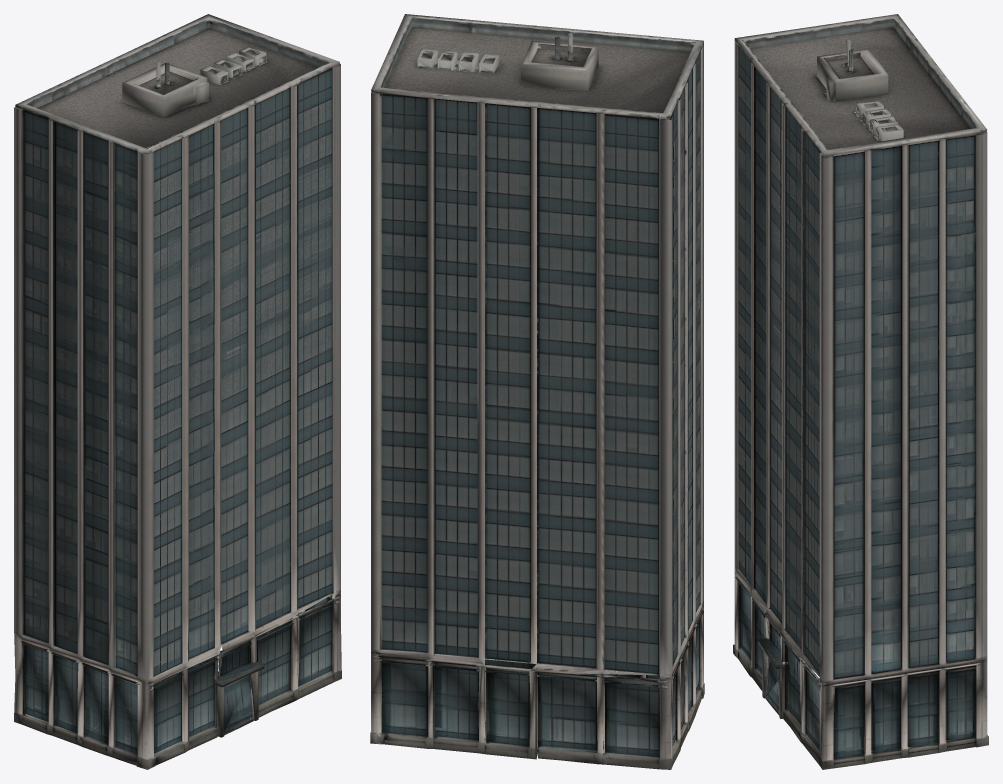
Rendered from office_building_3d_model_1.fbx.
The picture shows the model from 3 angles, left to right: view 1: azimuth 30°, elevation 25°; view 2: azimuth 150°, elevation 25°; view 3: azimuth 270°, elevation 25°; orthographic projection. The views are drawn at different scales.
Visible parts, largest first — view 1: tripo_node_10cbb877; view 2: tripo_node_10cbb877; view 3: tripo_node_10cbb877.
Part boxes in pixels (bbox=[...]): tripo_node_10cbb877: bbox=[14, 14, 341, 769]; tripo_node_10cbb877: bbox=[370, 14, 704, 769]; tripo_node_10cbb877: bbox=[733, 14, 988, 769].
Bounding box in the file's own units: 0.4668 × 0.998 × 0.3574.
